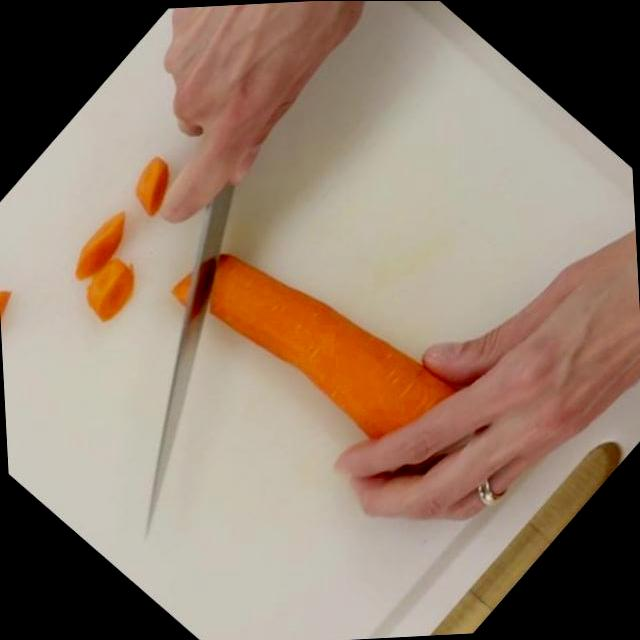carrot: (160, 190, 465, 492)
